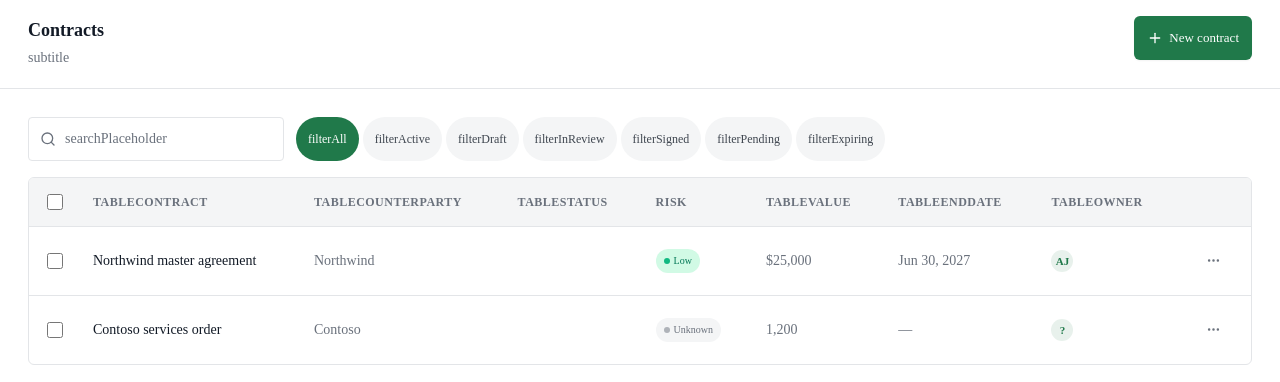
Test: ContractsPage responsive contract representations › shows the existing bulk archive action to an administrator
Click the checkbox named "Select Northwind master agreement" next to "Northwind master agreement": (55, 260) top-left (47, 252), bottom-right (63, 268)
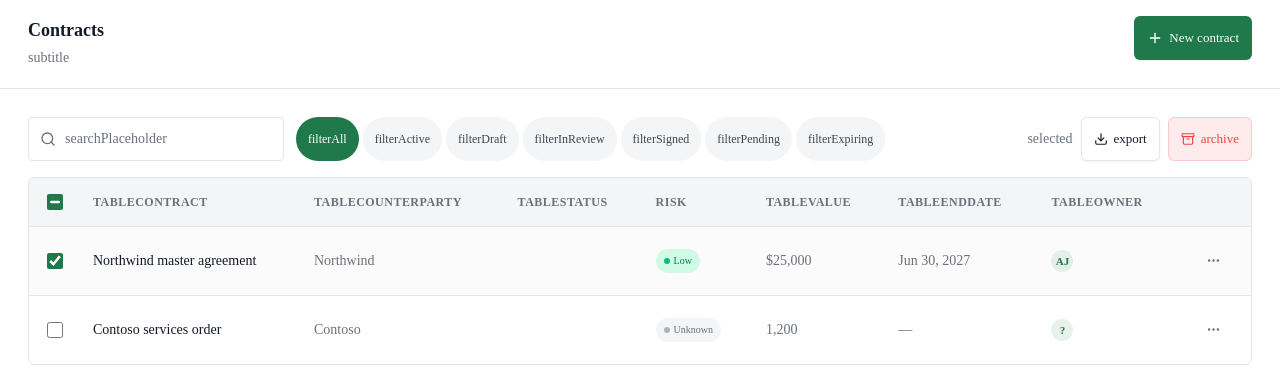
Now the button "archive" is shown, box top-left (1168, 117), bottom-right (1252, 161)
